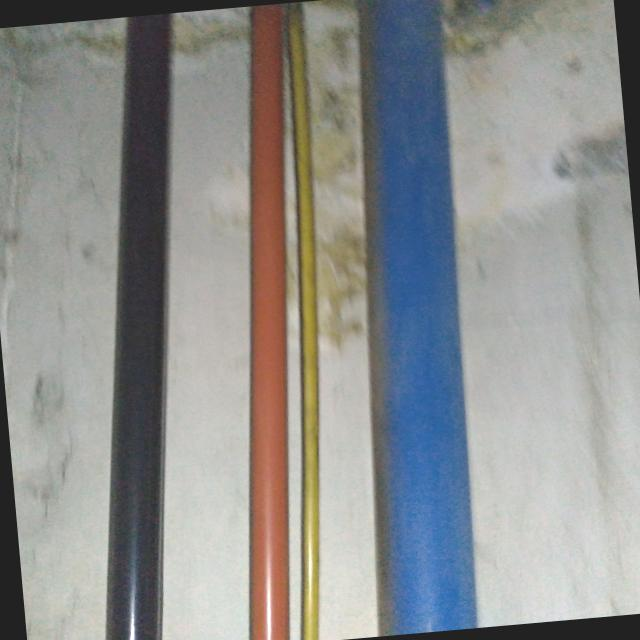gas: (359, 0, 469, 636), (106, 12, 171, 640), (249, 3, 287, 640)
